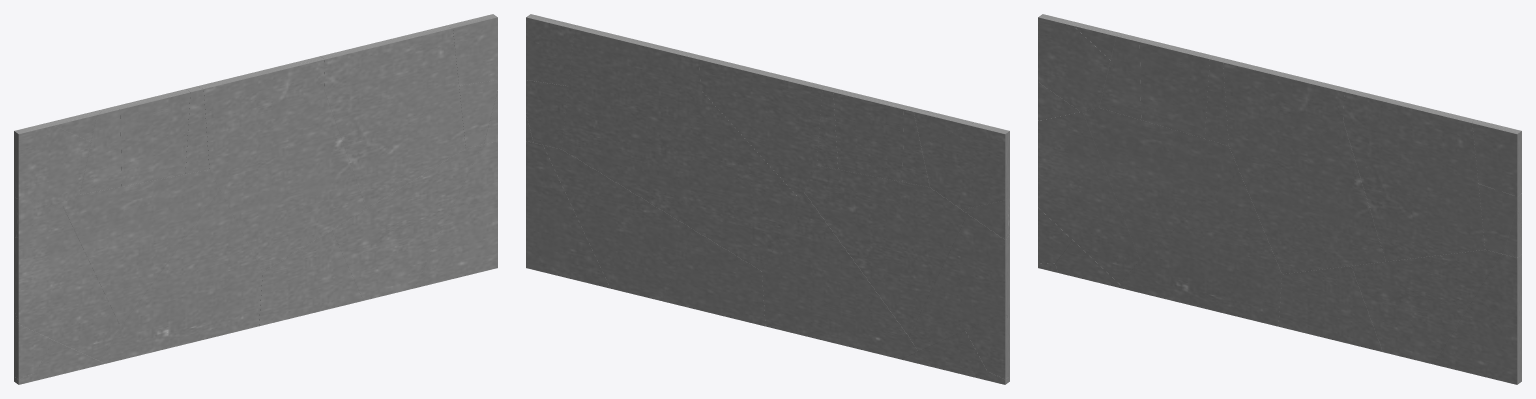
File: BreakableWall2.glb
The picture shows the model from 3 angles, left to right: view 1: azimuth 30°, elevation 25°; view 2: azimuth 150°, elevation 25°; view 3: azimuth 330°, elevation 25°; orthographic projection.
Parts seen in each view (by area): view 1: wall_cell_cell.002, wall_cell.006_cell.001, wall_cell_cell, wall_cell.006_cell, wall_cell.002_cell, wall_cell.006_cell.002, wall_cell_cell.001, wall_cell.002_cell.001, wall_cell.002_cell.002, wall_cell.003_cell.001, wall_cell.005_cell.001, wall_cell.001_cell.001 (+7 smaller); view 2: wall_cell_cell.002, wall_cell.006_cell, wall_cell_cell, wall_cell.006_cell.001, wall_cell.002_cell, wall_cell_cell.001, wall_cell.006_cell.002, wall_cell.002_cell.001, wall_cell.005_cell.001, wall_cell.002_cell.002, wall_cell.003_cell.001, wall_cell.001_cell.001 (+7 smaller); view 3: wall_cell_cell.002, wall_cell.006_cell.001, wall_cell_cell, wall_cell.006_cell, wall_cell.002_cell, wall_cell.006_cell.002, wall_cell_cell.001, wall_cell.002_cell.001, wall_cell.002_cell.002, wall_cell.003_cell.001, wall_cell.005_cell.001, wall_cell.001_cell.001 (+8 smaller).
Boxes of the visible parts, left/top/right/bottom form: wall_cell_cell.002: left=320, top=26, right=465, bottom=208; wall_cell.006_cell.001: left=100, top=190, right=262, bottom=363; wall_cell_cell: left=225, top=89, right=366, bottom=271; wall_cell.006_cell: left=63, top=169, right=219, bottom=326; wall_cell.002_cell: left=332, top=144, right=481, bottom=300; wall_cell.006_cell.002: left=14, top=207, right=120, bottom=360; wall_cell_cell.001: left=197, top=56, right=324, bottom=198; wall_cell.002_cell.001: left=414, top=141, right=497, bottom=288; wall_cell.002_cell.002: left=259, top=230, right=363, bottom=326; wall_cell.003_cell.001: left=116, top=89, right=190, bottom=186; wall_cell.005_cell.001: left=14, top=122, right=91, bottom=207; wall_cell.001_cell.001: left=445, top=14, right=497, bottom=85; wall_cell_cell.002: left=562, top=25, right=703, bottom=207; wall_cell.006_cell: left=803, top=165, right=967, bottom=336; wall_cell_cell: left=658, top=90, right=799, bottom=270; wall_cell.006_cell.001: left=762, top=191, right=917, bottom=359; wall_cell.002_cell: left=543, top=145, right=693, bottom=300; wall_cell_cell.001: left=699, top=56, right=824, bottom=198; wall_cell.006_cell.002: left=909, top=214, right=1009, bottom=351; wall_cell.002_cell.001: left=526, top=141, right=610, bottom=288; wall_cell.005_cell.001: left=921, top=122, right=1009, bottom=209; wall_cell.002_cell.002: left=662, top=230, right=765, bottom=326; wall_cell.003_cell.001: left=833, top=89, right=907, bottom=181; wall_cell.001_cell.001: left=526, top=14, right=575, bottom=85; wall_cell_cell.002: left=1343, top=88, right=1485, bottom=261; wall_cell.006_cell.001: left=1120, top=172, right=1281, bottom=326; wall_cell_cell: left=1244, top=121, right=1385, bottom=274; wall_cell.006_cell: left=1082, top=108, right=1239, bottom=259; wall_cell.002_cell: left=1351, top=249, right=1500, bottom=364; wall_cell.006_cell.002: left=1038, top=111, right=1139, bottom=283; wall_cell_cell.001: left=1223, top=59, right=1347, bottom=181; wall_cell.002_cell.001: left=1434, top=254, right=1521, bottom=384; wall_cell.002_cell.002: left=1278, top=266, right=1382, bottom=351; wall_cell.003_cell.001: left=1139, top=38, right=1213, bottom=138; wall_cell.005_cell.001: left=1038, top=14, right=1110, bottom=111; wall_cell.001_cell.001: left=1472, top=119, right=1521, bottom=196.
Size of the model in its own units: 12 by 6 by 0.2.
1 material, 1 textured.
